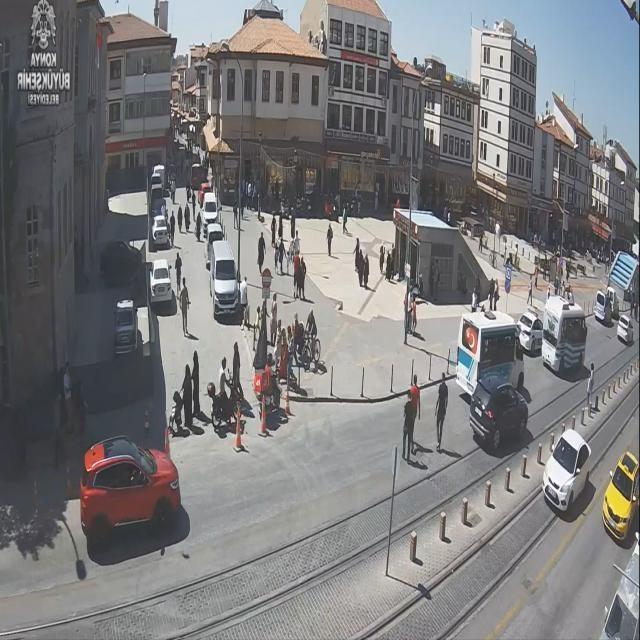Car: (80, 438, 185, 536), (594, 526, 638, 640), (471, 381, 529, 451), (542, 431, 592, 510), (602, 450, 640, 540), (114, 300, 138, 354), (516, 310, 544, 353), (149, 259, 173, 303), (200, 193, 220, 236), (204, 223, 226, 260), (594, 289, 614, 324), (151, 215, 171, 248), (617, 313, 634, 345), (150, 178, 164, 206), (152, 195, 166, 220), (152, 165, 165, 190), (198, 188, 205, 206), (202, 182, 212, 194)
Truck: (455, 308, 521, 399), (541, 294, 588, 372)
Van: (209, 242, 241, 317)
